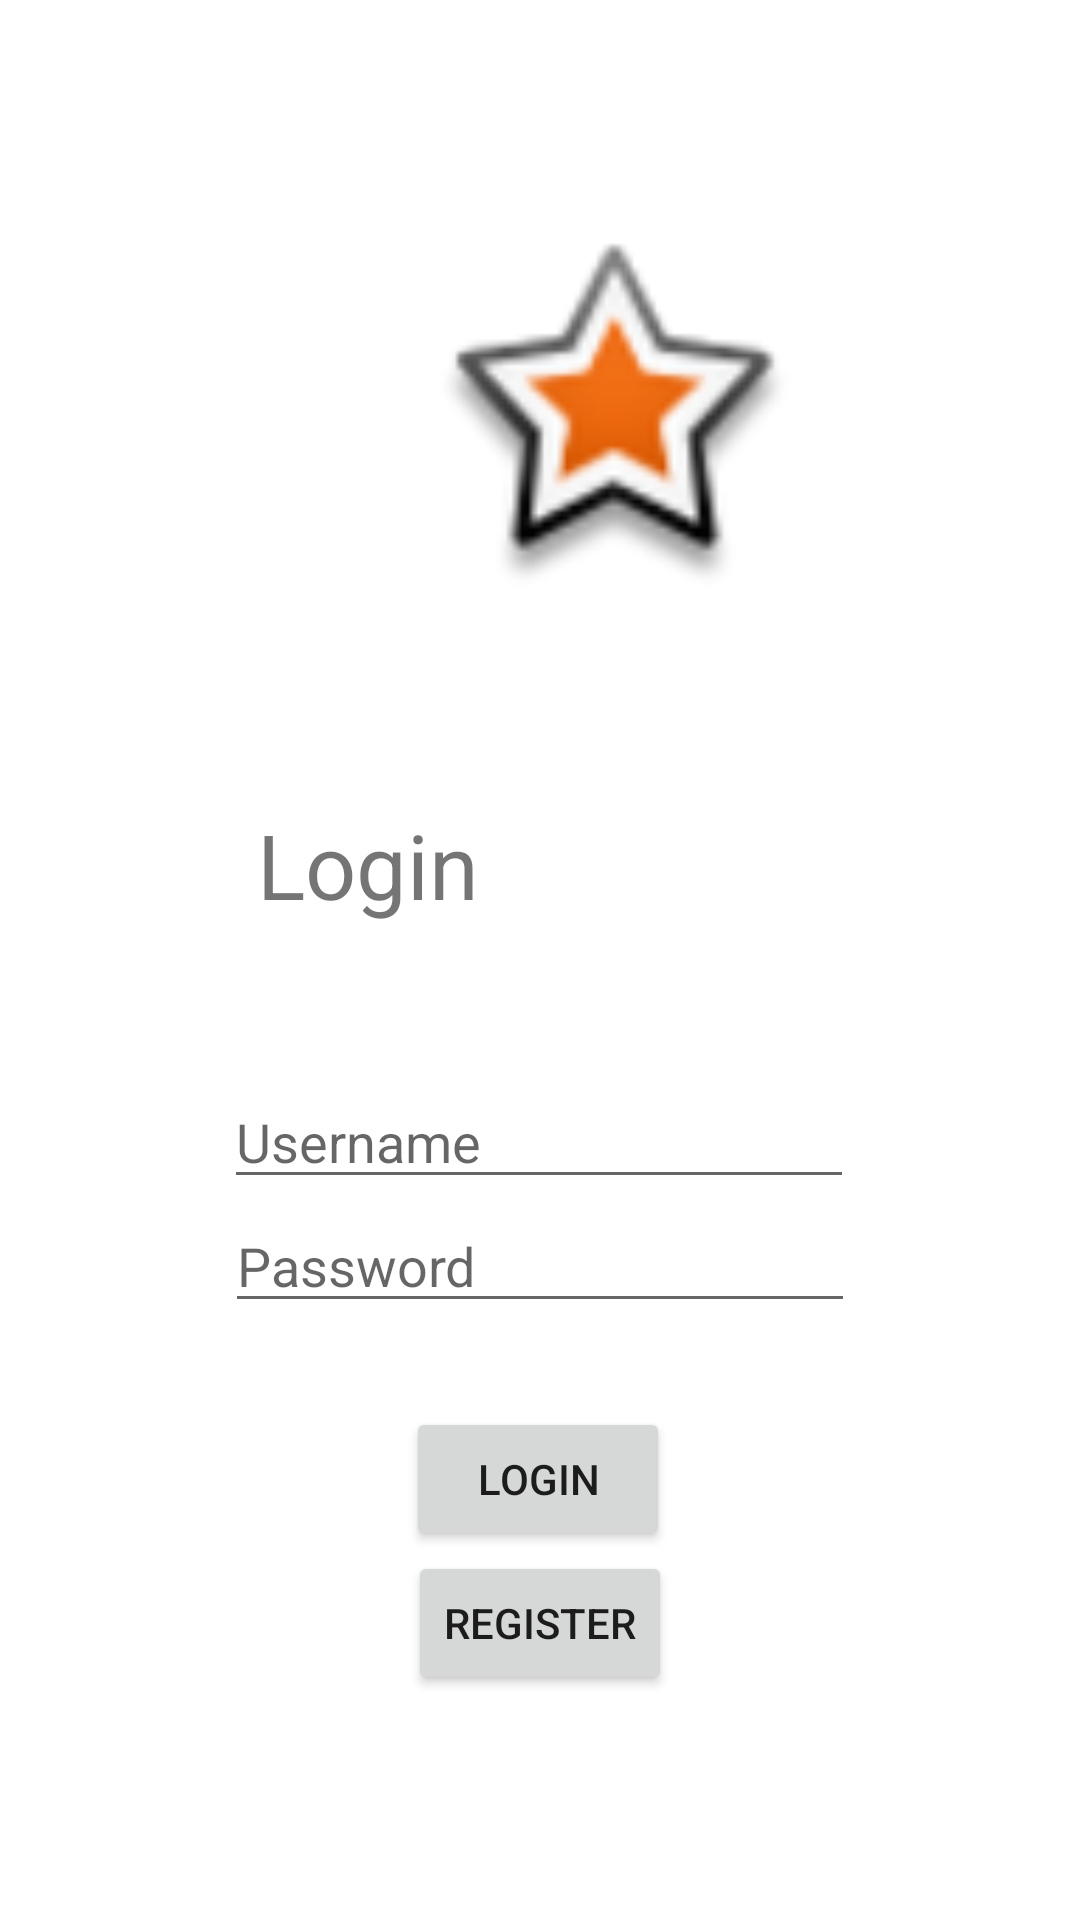

Icon bounding boxes for this 1080×1920 phone screenshot, format [x1=x1, y1=y1, x2=x2, y2=y2]:
star on: [x1=455, y1=244, x2=774, y2=571]
